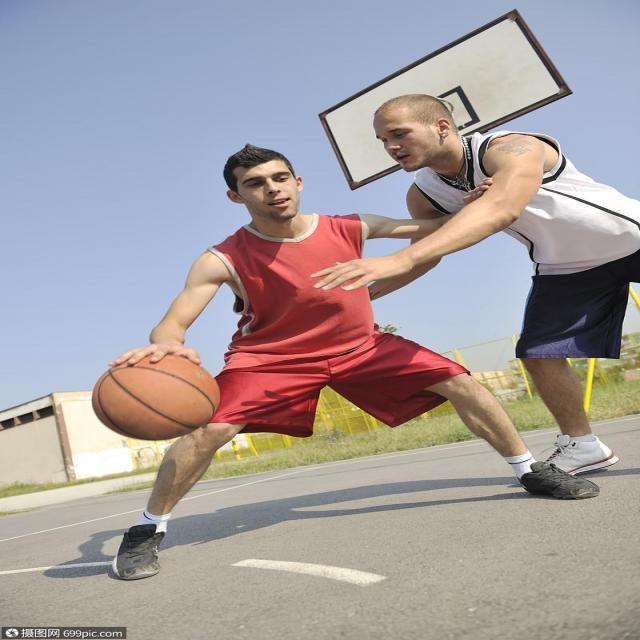rim: (98, 358, 222, 436)
